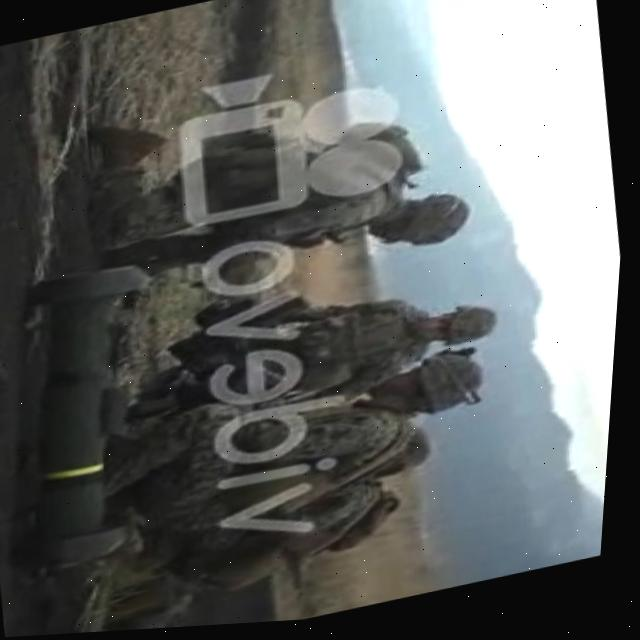rocket: (0, 256, 203, 582)
